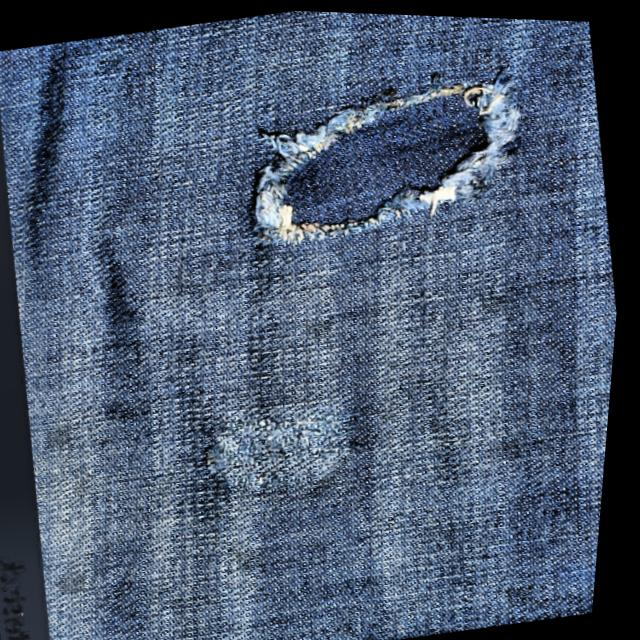Hole: (199, 35, 562, 273)
